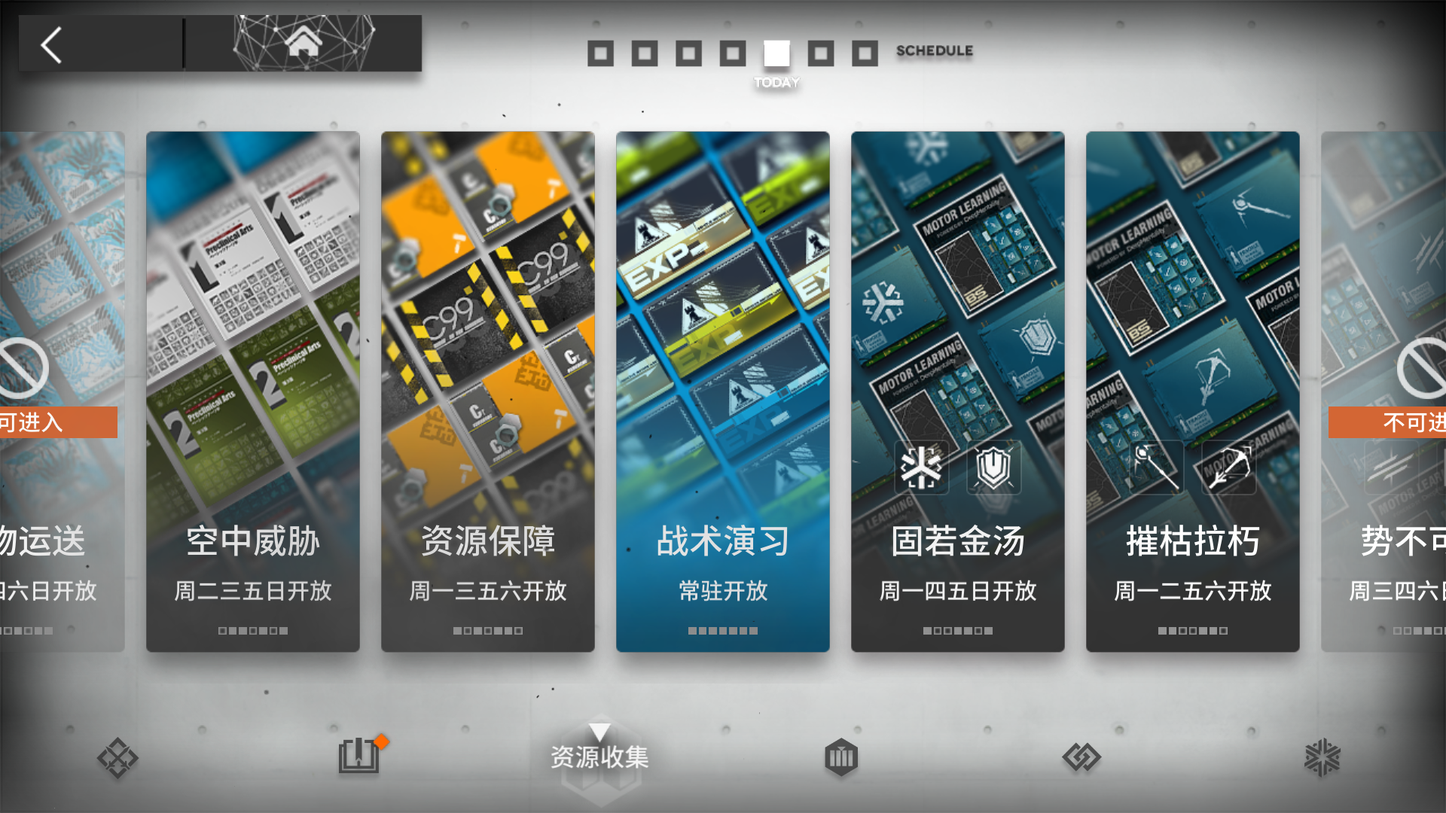Return_Button: (21, 15, 164, 80)
tactical_maneuver_button: (610, 126, 833, 657)
